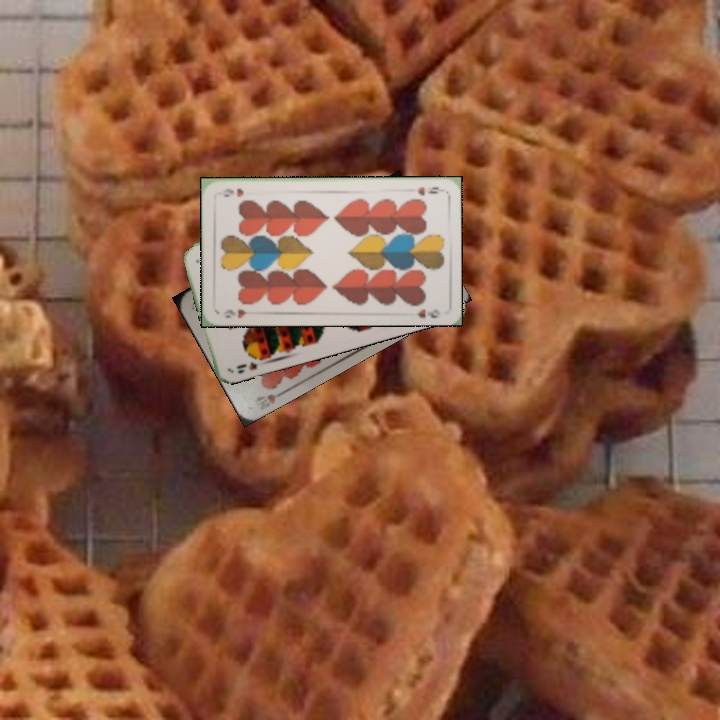H10: (263, 386, 288, 406)
H9: (220, 305, 257, 320), (414, 183, 445, 198)
S9: (233, 350, 268, 373)
